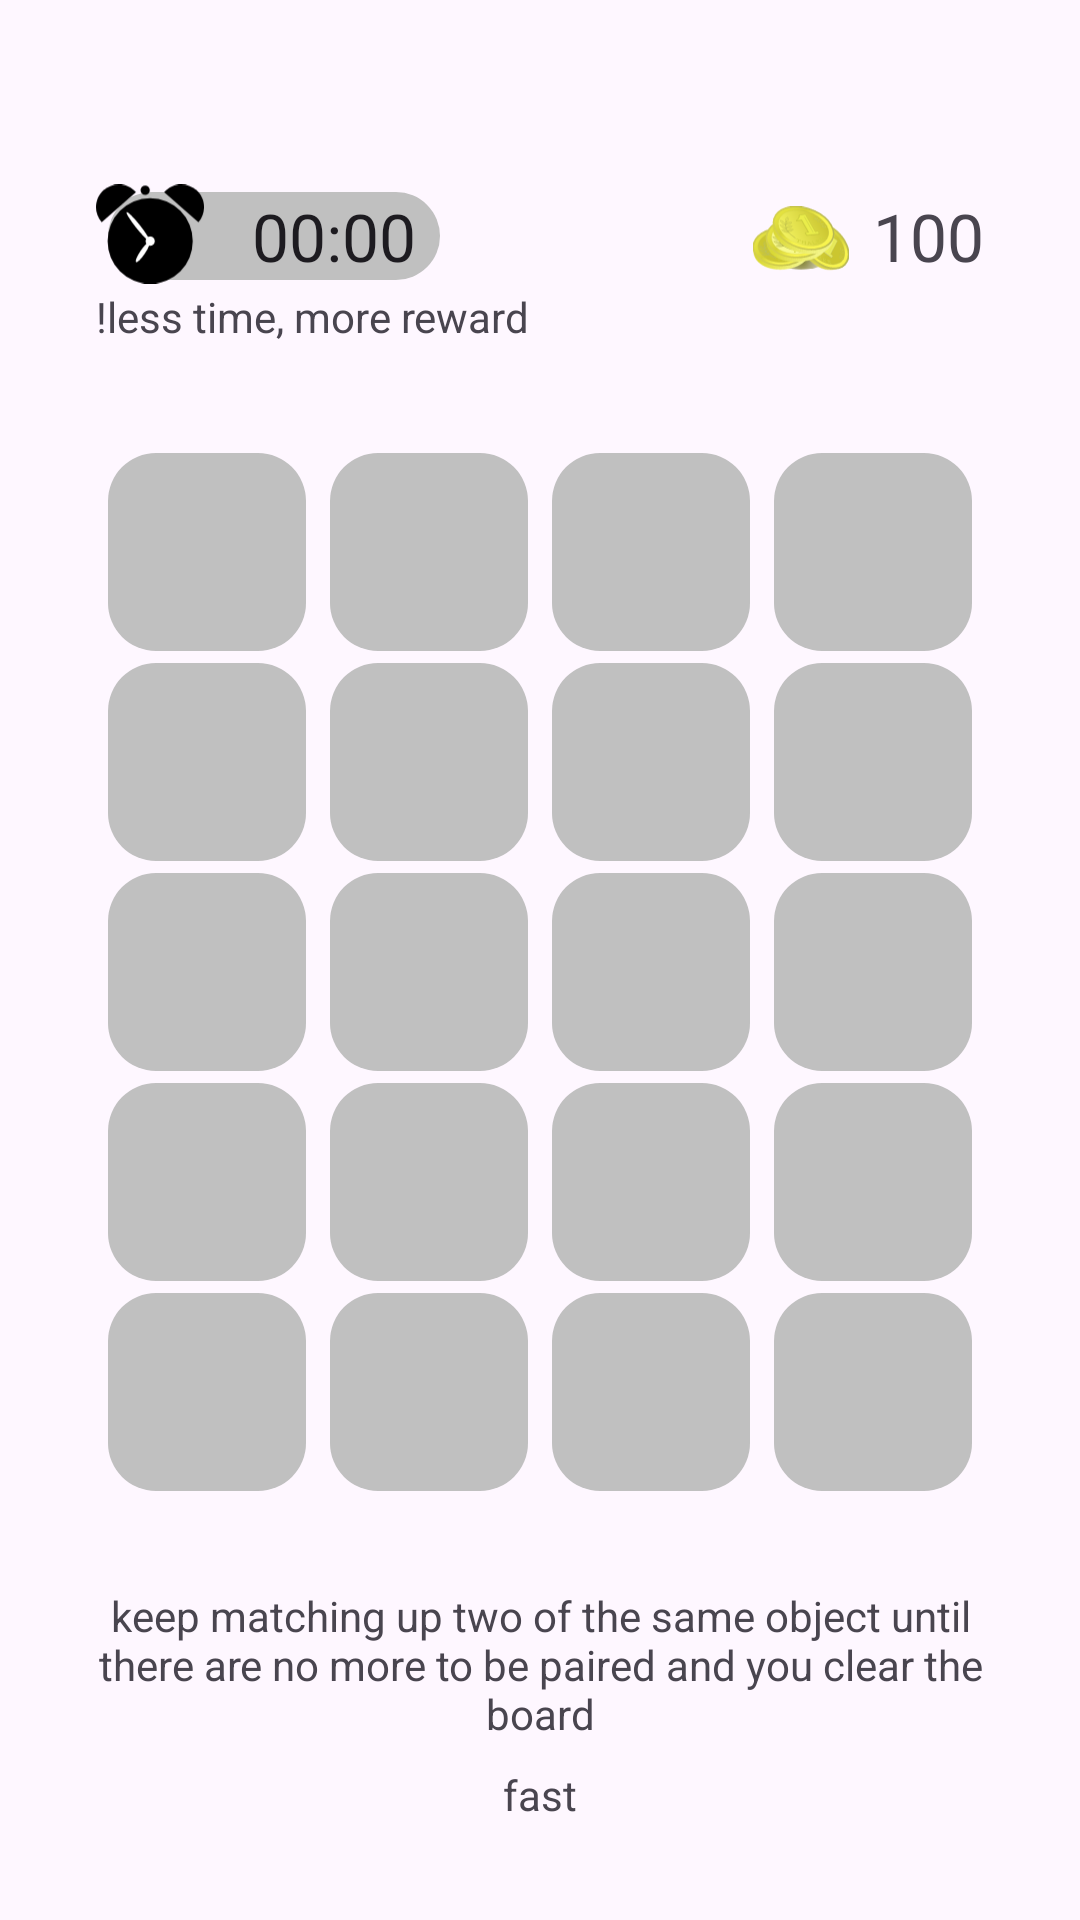

Icon bounding boxes for this 1080w x 1920h phone screenshot, format (x1, y1, x2, y2):
coin: (753, 206, 849, 270)
timer: (96, 184, 204, 284)
